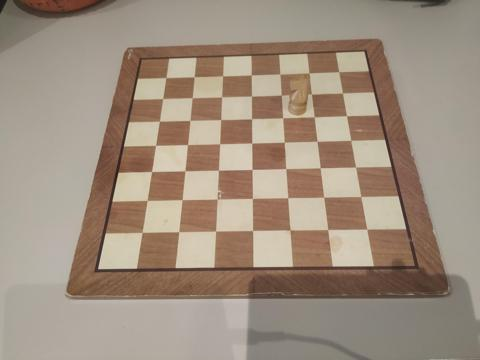xcorner: (137, 229, 147, 239), (211, 228, 221, 238), (249, 228, 259, 238), (287, 227, 297, 237), (325, 227, 335, 237), (364, 226, 374, 236), (142, 197, 152, 207), (177, 196, 187, 206), (212, 195, 222, 205), (248, 195, 258, 205), (284, 194, 294, 204), (321, 194, 331, 204), (358, 193, 368, 203), (146, 167, 156, 177), (180, 167, 190, 177), (214, 166, 224, 176), (248, 165, 258, 175), (317, 164, 327, 174), (352, 163, 362, 173), (150, 140, 160, 150), (182, 140, 192, 150), (215, 139, 225, 149), (247, 138, 257, 148), (280, 137, 290, 147), (313, 137, 323, 147), (347, 136, 357, 146), (154, 116, 164, 126), (185, 115, 195, 125), (216, 114, 226, 124), (247, 113, 257, 123), (278, 113, 288, 123), (310, 112, 320, 122), (342, 111, 352, 121), (157, 93, 167, 103), (187, 92, 197, 102), (217, 92, 227, 102), (247, 91, 257, 101), (277, 90, 287, 100), (307, 89, 317, 99), (338, 88, 348, 98), (160, 72, 170, 82), (189, 71, 199, 81), (217, 71, 227, 81), (246, 70, 256, 80), (275, 69, 285, 79), (304, 68, 314, 78), (334, 67, 344, 77), (174, 229, 184, 238), (282, 165, 292, 174)
